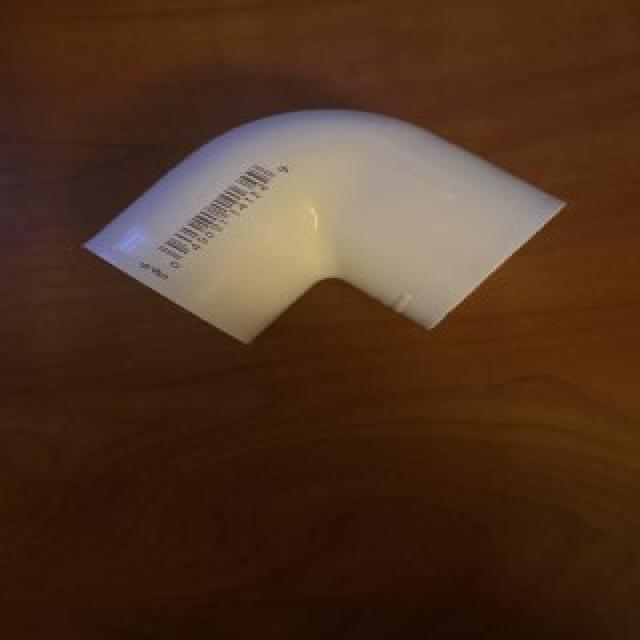L Joint: (82, 109, 567, 346)
